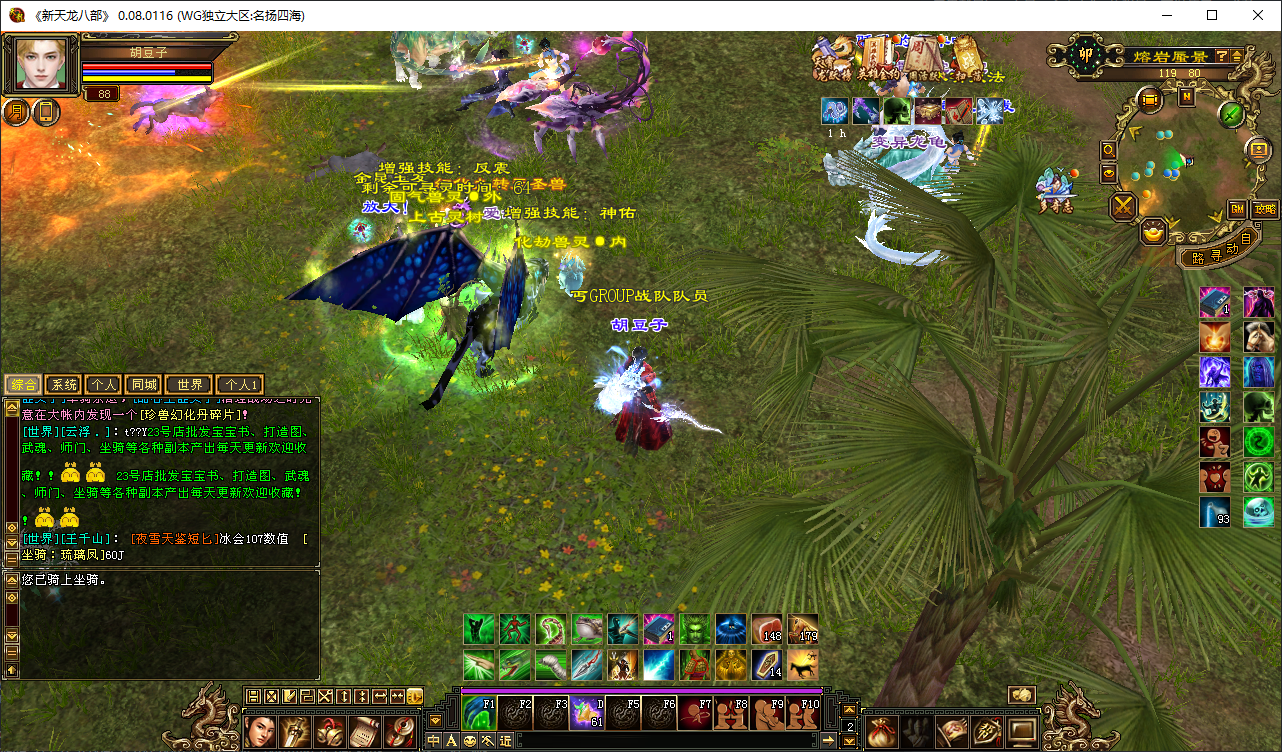cheap: (500, 226, 636, 312)
